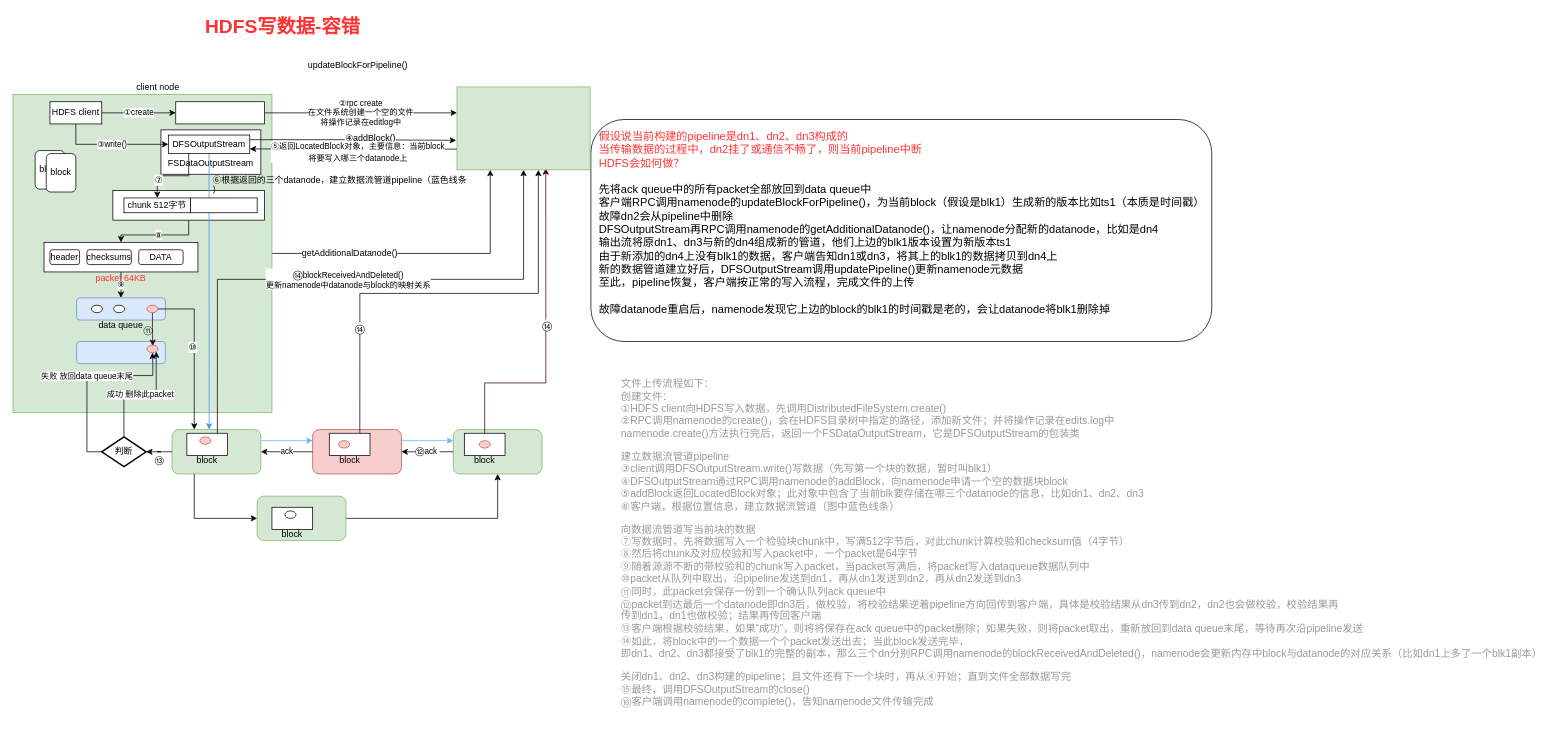
The diagram is 1565 pixels wide and 745 high, and some of its shapes have lost their labels. Each missing label, with the box of its shape:
ack queue: (76, 341, 165, 364)
checksum4字节: (190, 197, 257, 213)
datanode1: (171, 429, 261, 474)
datanode2: (312, 429, 401, 474)
datanode3: (453, 429, 542, 474)
datanode4: (256, 495, 346, 541)
DistributedFileSystem: (175, 101, 265, 124)
namenode: (456, 86, 590, 170)
